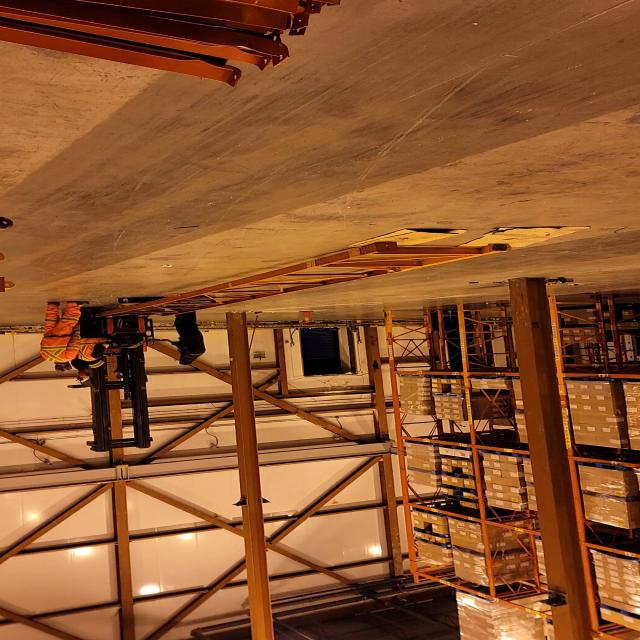forklift: (68, 307, 184, 448)
human: (39, 298, 89, 374), (76, 303, 115, 371), (162, 310, 208, 365), (68, 360, 113, 381)
objectofinterest: (87, 241, 518, 324), (452, 224, 594, 256), (346, 226, 468, 257), (116, 294, 164, 308)
